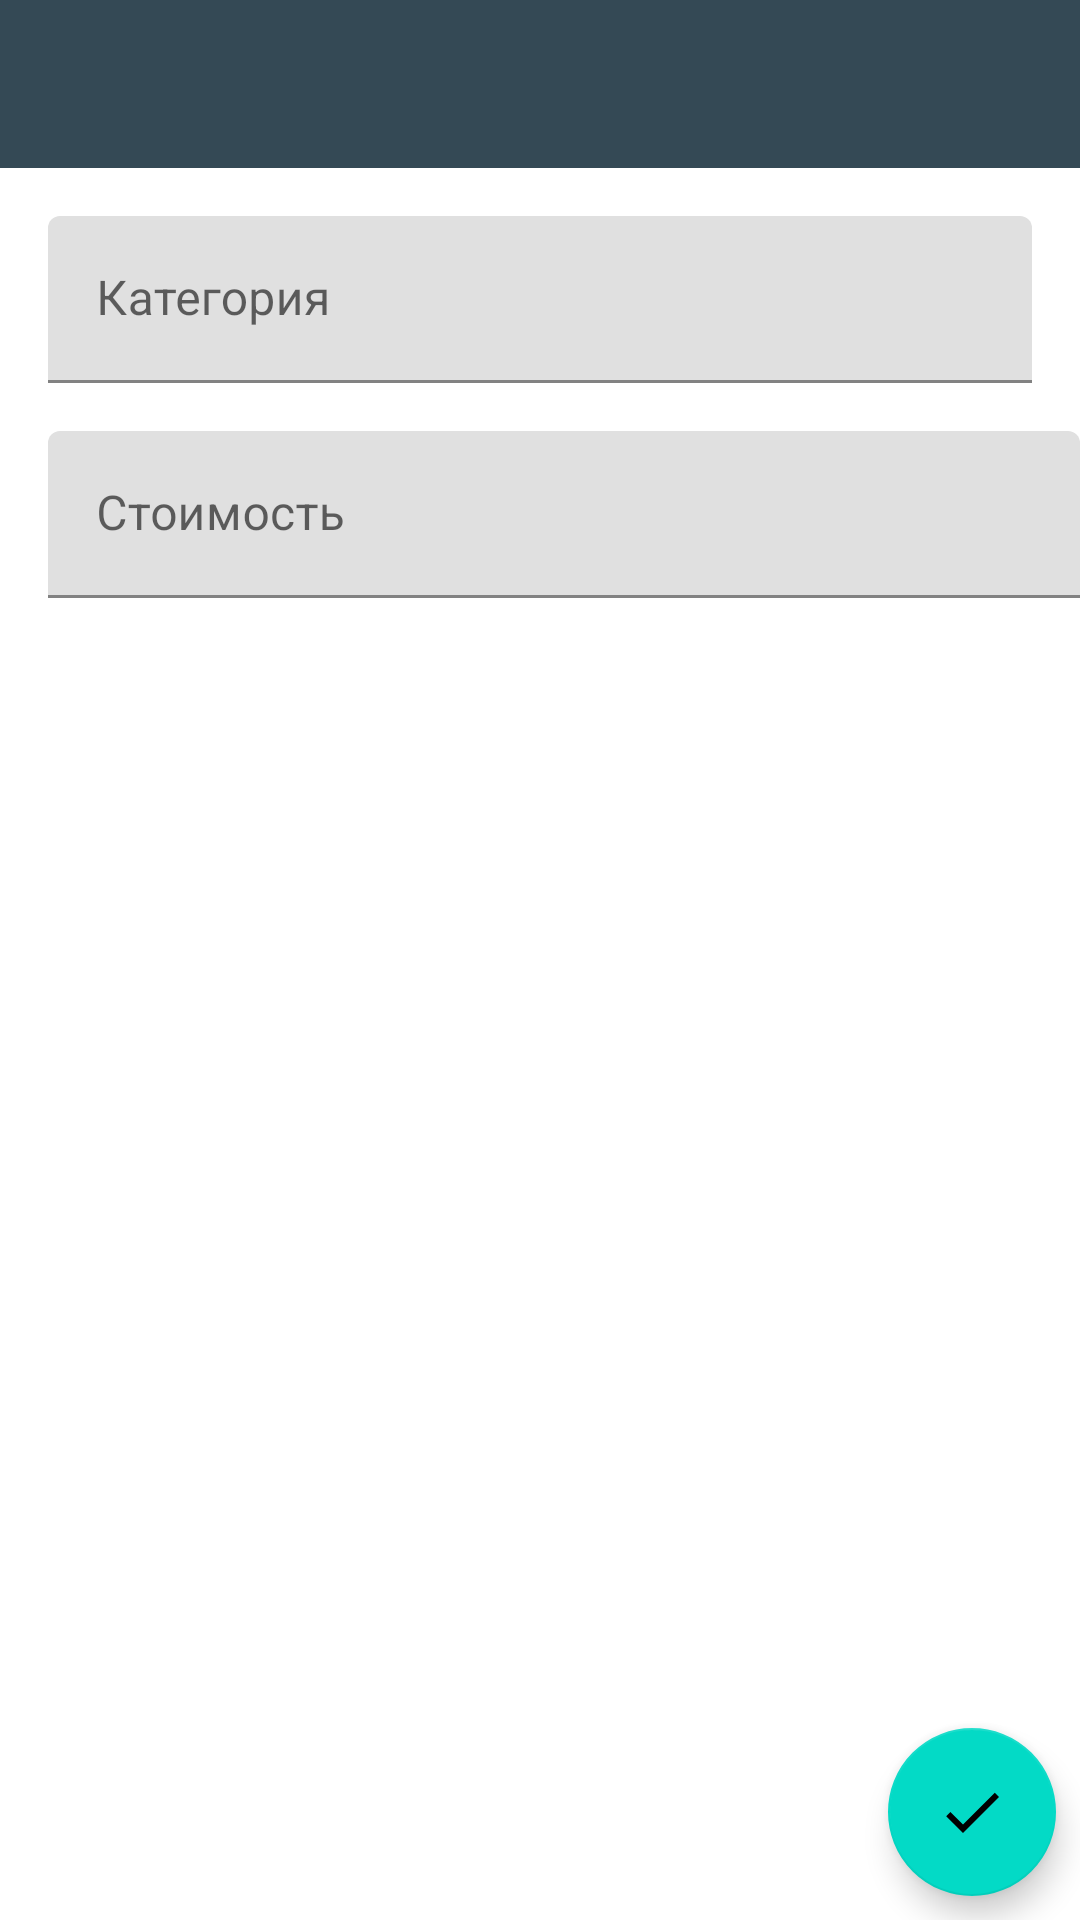

Locate icon controls on the screen. Image size 1080×1920, boxes as (x1, y1, x2, y2).
done: (888, 1728, 1056, 1896)
